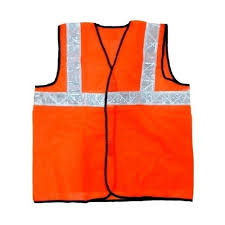Jacket: (29, 17, 206, 206)
